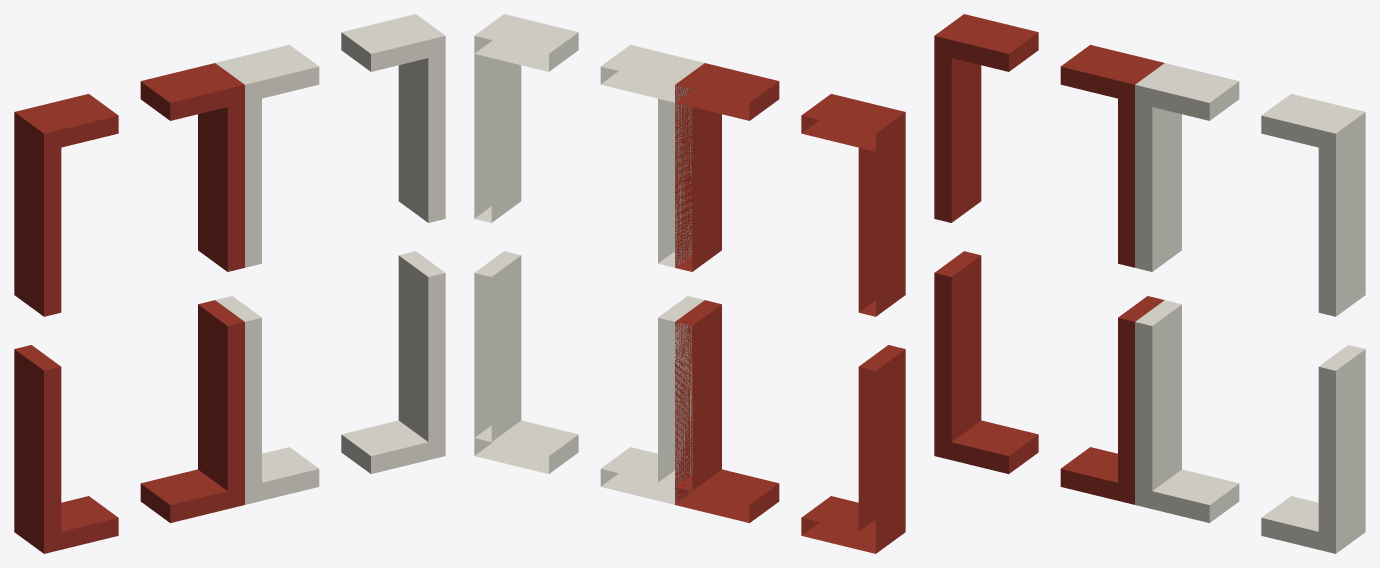
Rendered from construction_0.glb.
The picture shows the model from 3 angles, left to right: view 1: azimuth 30°, elevation 25°; view 2: azimuth 150°, elevation 25°; view 3: azimuth 330°, elevation 25°; orthographic projection.
Parts seen in each view (by area): view 1: construction_0; view 2: construction_0; view 3: construction_0.
Boxes of the visible parts, bbox=[...] form: construction_0: bbox=[14, 14, 445, 553]; construction_0: bbox=[474, 14, 905, 553]; construction_0: bbox=[934, 14, 1365, 553].
Bounding box in the file's own units: 14 × 14 × 1.8.
